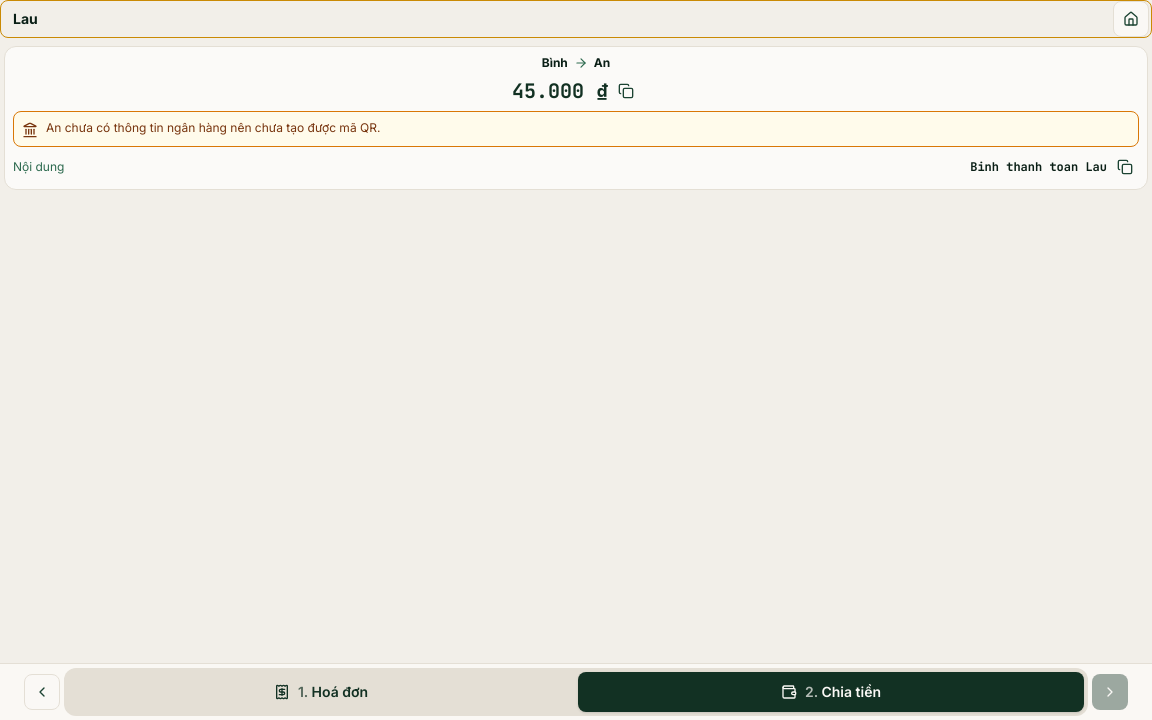
SnapshotViewerPage (Epic 8: BR-8.2, BR-8.3, BR-8.4, AC-6) › link gọn kèm món: có tab Hoá đơn hiện món và số tiền phần của người chuyển
Click the tab "1. Hoá đơn".
click(321, 692)  # box [68,672,574,712]
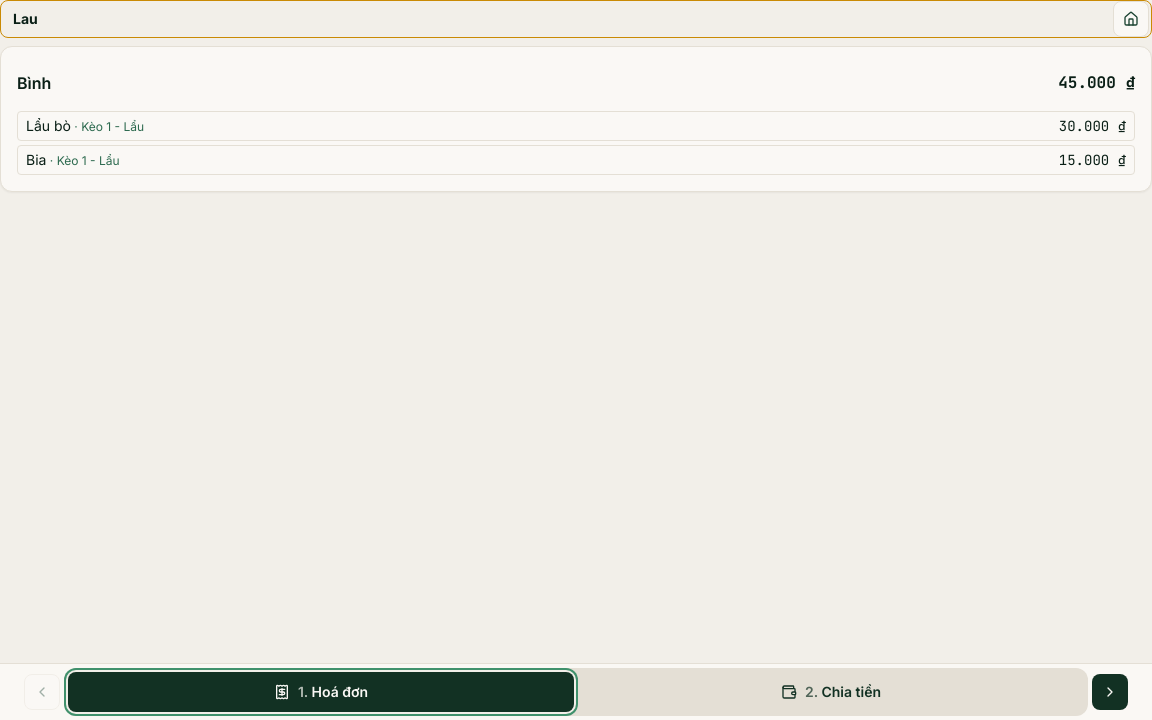
Check: the text "Lẩu bò" is shown, box [26,117,71,134]
Check: the text "· Kèo 1 - Lẩu" is shown 2 times, box [71,119,144,134]; [46,153,120,168]
Check: the text "30.000 ₫" is shown, box [1059,116,1126,136]
